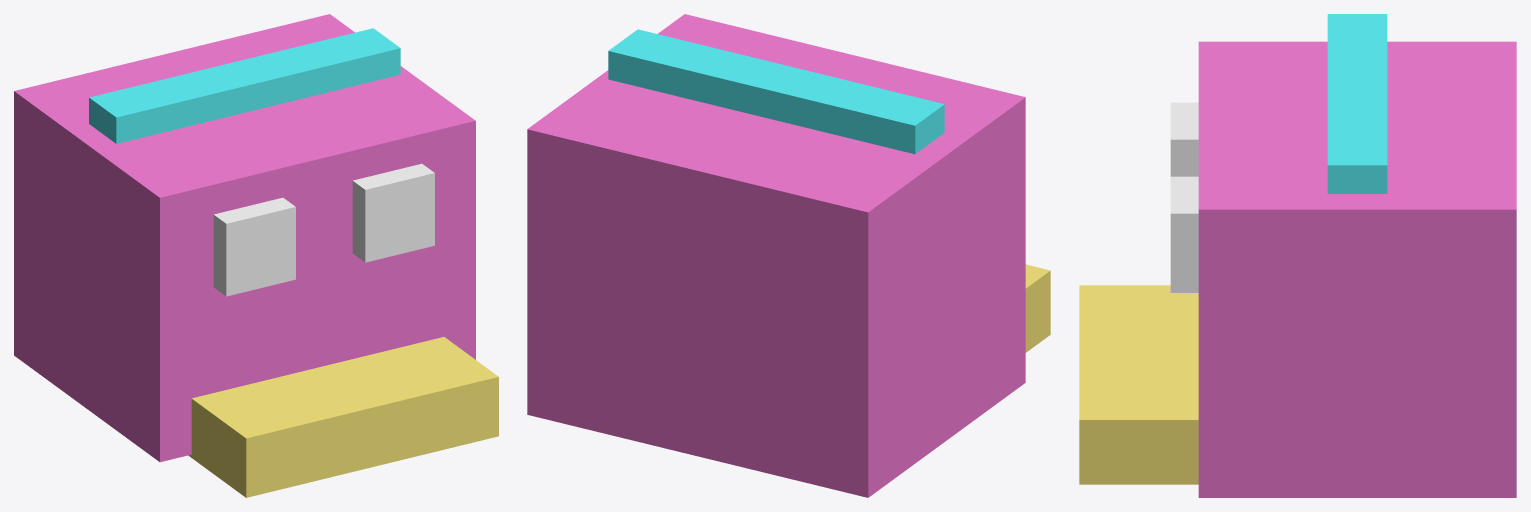
The model's file is test-bot.glb.
3 views of the same model, side by side, from view 1: azimuth 30°, elevation 25°; view 2: azimuth 150°, elevation 25°; view 3: azimuth 270°, elevation 25° (orthographic). The views are drawn at different scales.
Parts seen in each view (by area): view 1: body, jaw, spinner, eyeR, eyeL; view 2: body, spinner, jaw; view 3: body, jaw, spinner, eyeR, eyeL.
Part boxes in pixels (x1,y1,x2,y2): body: (14,14,475,462); jaw: (188,337,498,497); spinner: (89,28,400,143); eyeR: (352,163,434,262); eyeL: (213,197,295,296); body: (527,14,1025,497); spinner: (608,29,944,154); jaw: (1025,264,1050,352); body: (1198,41,1516,497); jaw: (1079,285,1198,484); spinner: (1327,14,1387,193); eyeR: (1170,176,1198,292); eyeL: (1170,102,1198,176).
Size of the model in its own units: 1 by 0.91 by 1.1.
